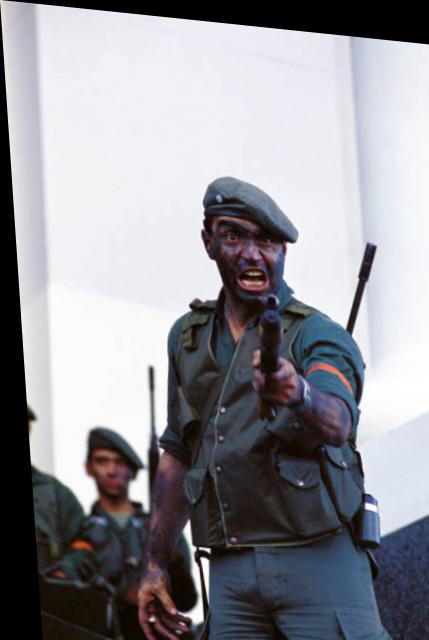other: (102, 144, 415, 640), (44, 411, 180, 607)
